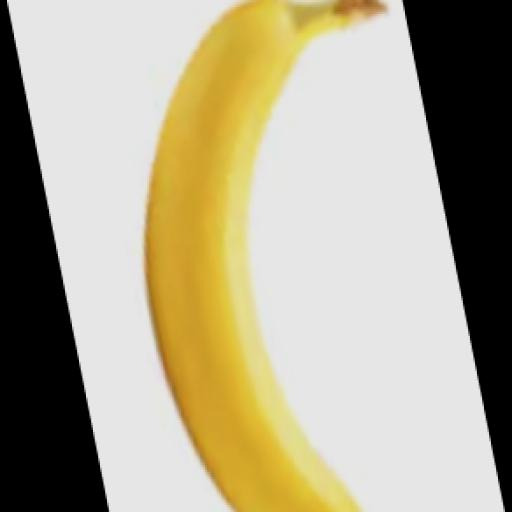banana-ripe: (111, 0, 428, 512)
